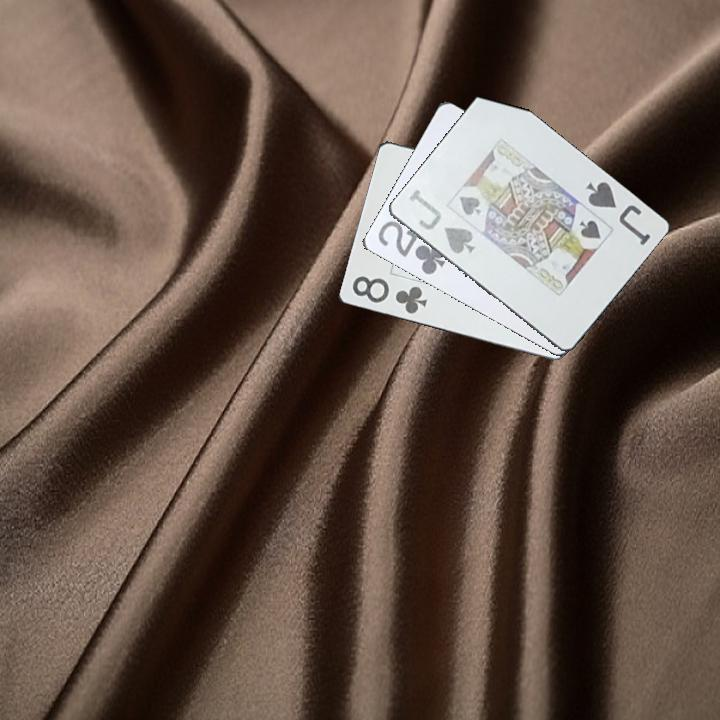2c: (374, 217, 449, 278)
8c: (348, 272, 430, 317)
Js: (404, 186, 478, 257), (581, 178, 653, 248)
